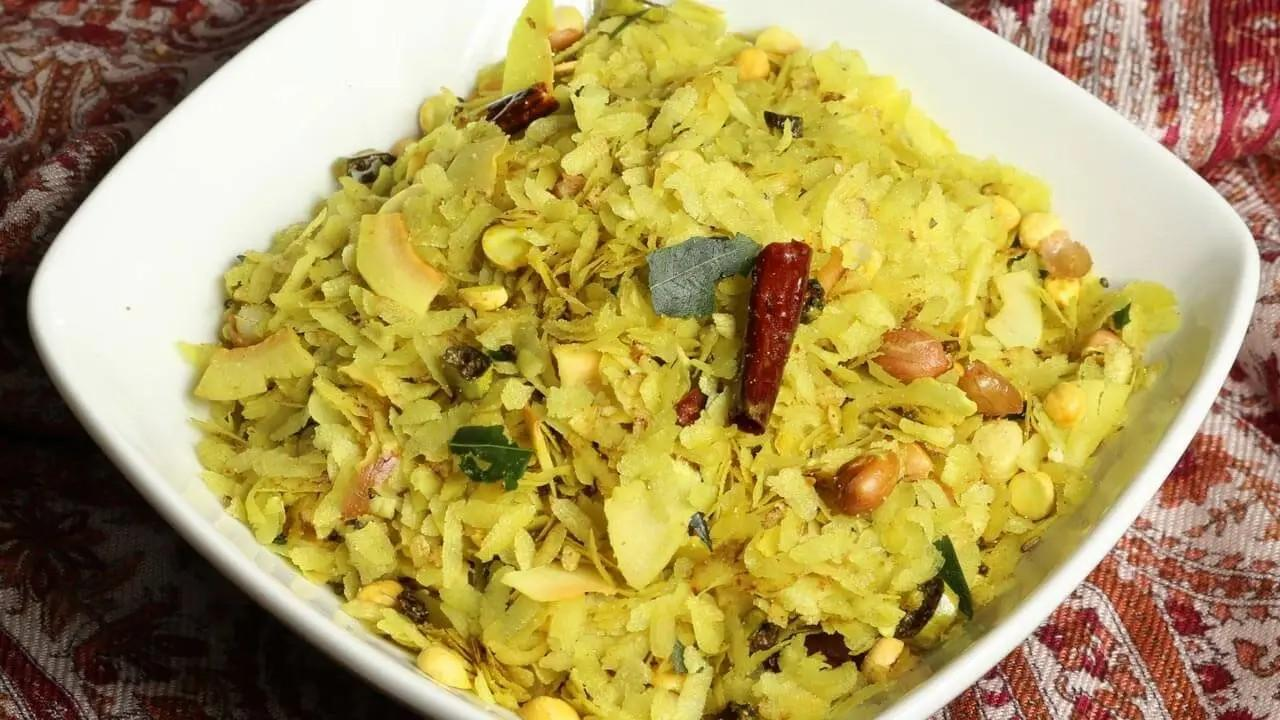Poha: (207, 0, 1155, 720)
